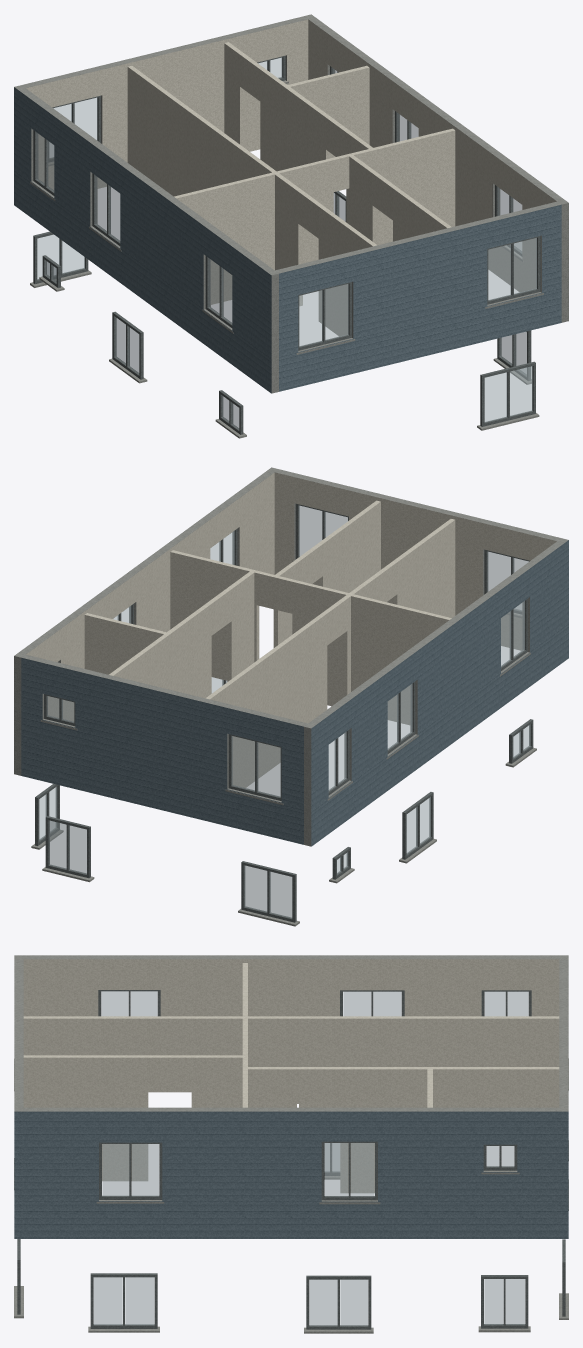
The model's file is PZ_House_UpperWalls_and_Windows.glb.
The picture shows the model from 3 angles, top to bottom: view 1: azimuth 30°, elevation 25°; view 2: azimuth 150°, elevation 25°; view 3: azimuth 270°, elevation 25°; orthographic projection. The views are drawn at different scales.
Parts seen in each view (by area): view 1: MOD_U_ExtFront_2mCell+00_ExteriorSiding, MOD_U_ExtFront_2mCell-01_ExteriorSiding, MOD_U_ExtFront_2mCell+01_ExteriorSiding, MOD_U_ExtFront_2mCell-02_ExteriorSiding, MOD_U_ExtWest_2mCell+02_ExteriorSiding, MOD_U_ExtWest_2mCell+00_ExteriorSiding, MOD_U_FrontBedroom2_BackRoom_2mCell+01_Core, MOD_U_ExtWest_2mCell+04_ExteriorSiding, MOD_U_Master_to_Stair_2mCell+05_Core, MOD_U_ExtRear_2mCell+00_InteriorPlaster, MOD_U_ExtWest_2mCell+03_ExteriorSiding, MOD_U_ExtWest_2mCell+05_ExteriorSiding (+46 smaller); view 2: MOD_U_ExtRear_2mCell+00_ExteriorSiding, MOD_U_ExtRear_2mCell-01_ExteriorSiding, MOD_U_ExtRear_2mCell+01_ExteriorSiding, MOD_U_ExtRear_2mCell-02_ExteriorSiding, MOD_U_ExtWest_2mCell+02_ExteriorSiding, MOD_U_ExtWest_2mCell+00_ExteriorSiding, MOD_U_ExtWest_2mCell+04_ExteriorSiding, MOD_U_ExtWest_2mCell+03_ExteriorSiding, MOD_U_FrontBedroom2_BackRoom_2mCell+01_Core, MOD_U_ExtWest_2mCell+05_ExteriorSiding, MOD_U_Master_to_Stair_2mCell+03_Core, MOD_U_ExtWest_2mCell+01_ExteriorSiding (+43 smaller); view 3: MOD_U_ExtEast_2mCell+02_ExteriorSiding, MOD_U_ExtEast_2mCell+04_ExteriorSiding, MOD_U_ExtEast_2mCell+00_ExteriorSiding, MOD_U_ExtEast_2mCell+05_ExteriorSiding, MOD_U_ExtEast_2mCell+01_ExteriorSiding, MOD_U_ExtEast_2mCell+03_ExteriorSiding, MOD_U_ExtWest_2mCell+02_InteriorPlaster, MOD_U_Bedroom2_Hall_2mCell+01_Core, MOD_U_Corridor_to_Bedroom3_2mCell+03_Core, MOD_U_ExtWest_2mCell+04_InteriorPlaster, MOD_U_Master_to_Stair_2mCell+03_Core, MOD_U_Master_to_Stair_2mCell+04_Core (+34 smaller).
Part boxes in pixels (x1,y1,x2,y2): MOD_U_ExtFront_2mCell+00_ExteriorSiding: (420, 221, 494, 357); MOD_U_ExtFront_2mCell-01_ExteriorSiding: (346, 239, 420, 375); MOD_U_ExtFront_2mCell+01_ExteriorSiding: (494, 204, 561, 338); MOD_U_ExtFront_2mCell-02_ExteriorSiding: (279, 257, 345, 391); MOD_U_ExtWest_2mCell+02_ExteriorSiding: (142, 181, 185, 330); MOD_U_ExtWest_2mCell+00_ExteriorSiding: (228, 244, 271, 393); MOD_U_FrontBedroom2_BackRoom_2mCell+01_Core: (386, 128, 455, 242); MOD_U_ExtWest_2mCell+04_ExteriorSiding: (57, 118, 99, 267); MOD_U_Master_to_Stair_2mCell+05_Core: (127, 65, 170, 190); MOD_U_ExtRear_2mCell+00_InteriorPlaster: (167, 36, 241, 132); MOD_U_ExtWest_2mCell+03_ExteriorSiding: (100, 150, 142, 298); MOD_U_ExtWest_2mCell+05_ExteriorSiding: (14, 87, 56, 236); MOD_U_ExtRear_2mCell+00_ExteriorSiding: (88, 674, 162, 810); MOD_U_ExtRear_2mCell-01_ExteriorSiding: (162, 692, 236, 828); MOD_U_ExtRear_2mCell+01_ExteriorSiding: (21, 658, 88, 791); MOD_U_ExtRear_2mCell-02_ExteriorSiding: (237, 710, 303, 844); MOD_U_ExtWest_2mCell+02_ExteriorSiding: (440, 603, 482, 751); MOD_U_ExtWest_2mCell+00_ExteriorSiding: (526, 540, 568, 689); MOD_U_ExtWest_2mCell+04_ExteriorSiding: (354, 666, 397, 814); MOD_U_ExtWest_2mCell+03_ExteriorSiding: (397, 634, 440, 783); MOD_U_FrontBedroom2_BackRoom_2mCell+01_Core: (170, 550, 239, 680); MOD_U_ExtWest_2mCell+05_ExteriorSiding: (311, 697, 354, 846); MOD_U_Master_to_Stair_2mCell+03_Core: (284, 610, 330, 723); MOD_U_ExtWest_2mCell+01_ExteriorSiding: (483, 571, 525, 720); MOD_U_ExtEast_2mCell+02_ExteriorSiding: (199, 1111, 291, 1238); MOD_U_ExtEast_2mCell+04_ExteriorSiding: (384, 1111, 476, 1238); MOD_U_ExtEast_2mCell+00_ExteriorSiding: (14, 1111, 106, 1238); MOD_U_ExtEast_2mCell+05_ExteriorSiding: (476, 1111, 568, 1238); MOD_U_ExtEast_2mCell+01_ExteriorSiding: (106, 1111, 198, 1238); MOD_U_ExtEast_2mCell+03_ExteriorSiding: (291, 1111, 383, 1238); MOD_U_ExtWest_2mCell+02_InteriorPlaster: (199, 959, 291, 1066); MOD_U_Bedroom2_Hall_2mCell+01_Core: (106, 1055, 198, 1180); MOD_U_Corridor_to_Bedroom3_2mCell+03_Core: (297, 1067, 383, 1193); MOD_U_ExtWest_2mCell+04_InteriorPlaster: (384, 959, 476, 1016); MOD_U_Master_to_Stair_2mCell+03_Core: (291, 1016, 383, 1107); MOD_U_Master_to_Stair_2mCell+04_Core: (384, 1016, 476, 1066).
Size of the model in its own units: 8.01 by 5.34 by 12.02.
Materials: 5 (4 with a texture image).
